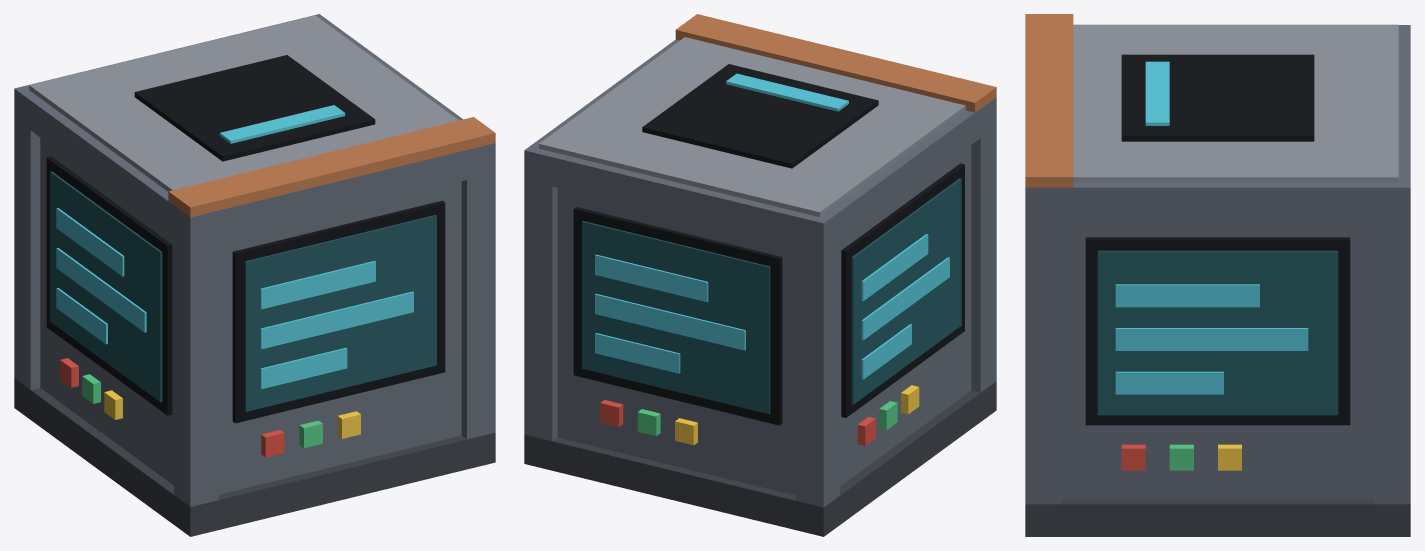
Rendered from terminal.glb.
3 views of the same model, side by side, from view 1: azimuth 30°, elevation 25°; view 2: azimuth 150°, elevation 25°; view 3: azimuth 270°, elevation 25° (orthographic). The views are drawn at different scales.
Visible parts, largest first — view 1: body.033, tier.016; view 2: body.033, tier.016; view 3: body.033, tier.016.
Boxes of the visible parts, x1,y1,x2,y2 form: body.033: [14, 14, 495, 536]; tier.016: [168, 117, 495, 217]; body.033: [524, 37, 996, 536]; tier.016: [675, 14, 996, 112]; body.033: [1025, 24, 1410, 536]; tier.016: [1025, 14, 1073, 187].
Bounding box in the file's own units: 1 × 1.04 × 1.
